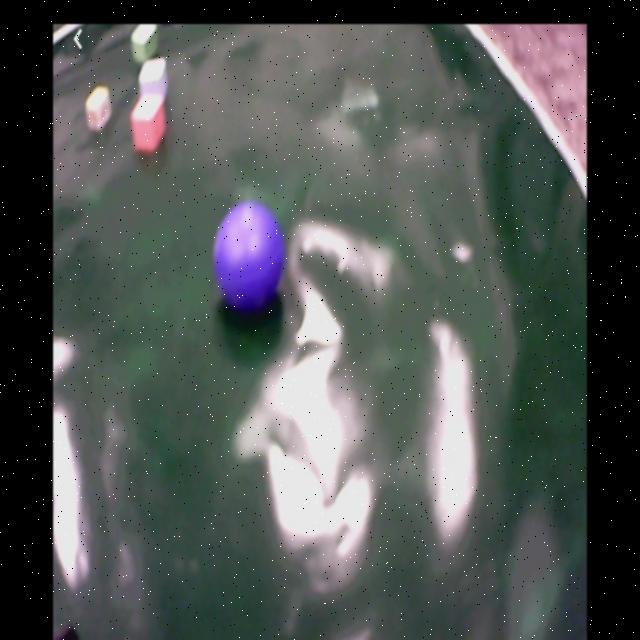ball: (216, 200, 286, 312)
